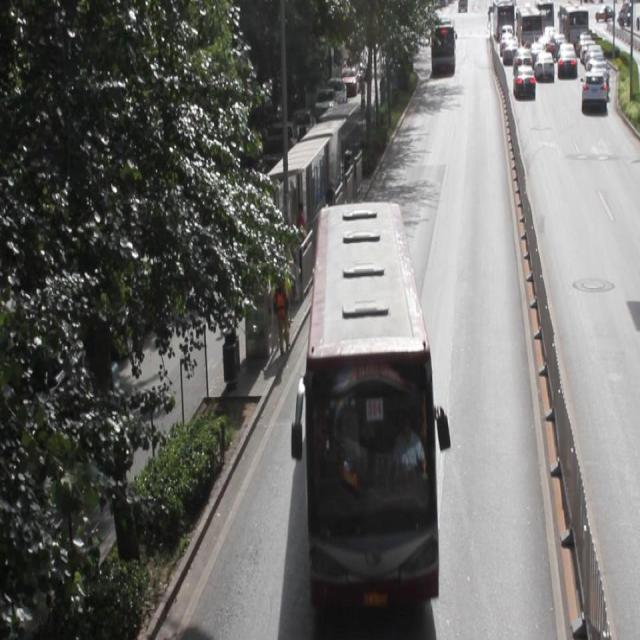van: (305, 200, 438, 599)
